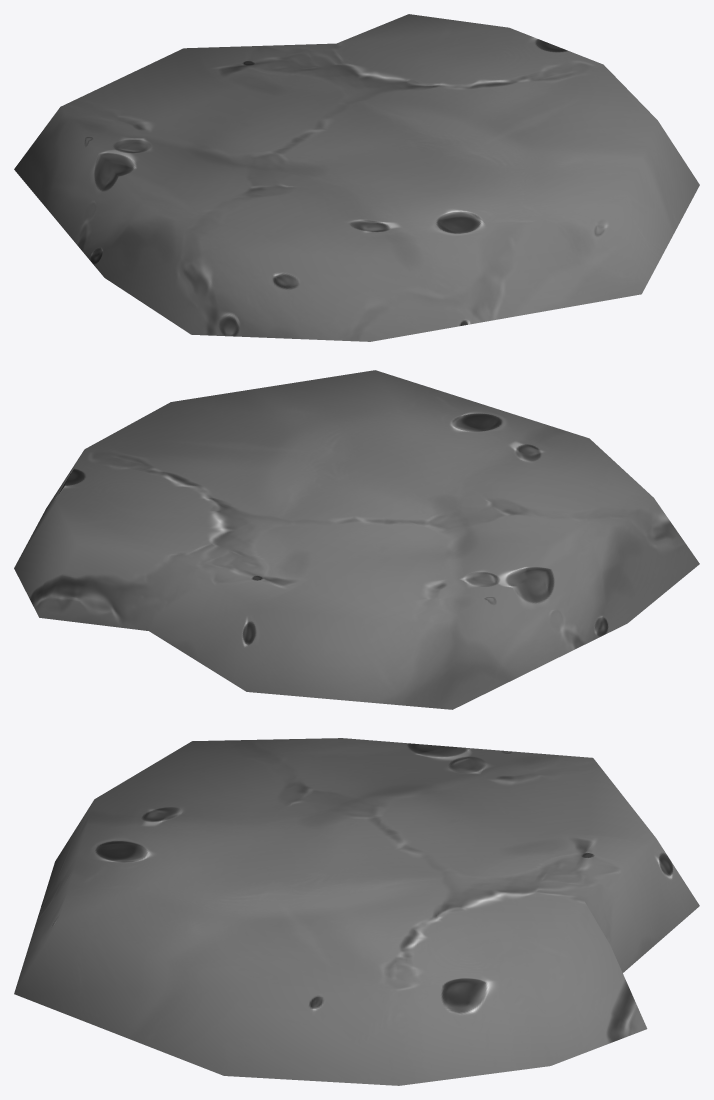
Rendered from SM_PROP_stone_04.fbx.
3 views of the same model, one above another, from view 1: azimuth 30°, elevation 25°; view 2: azimuth 150°, elevation 25°; view 3: azimuth 270°, elevation 25° (orthographic). The views are drawn at different scales.
Parts seen in each view (by area): view 1: SM_PROP_stone_04; view 2: SM_PROP_stone_04; view 3: SM_PROP_stone_04.
Part boxes in pixels (x1,y1,x2,y2): SM_PROP_stone_04: [14, 14, 699, 341]; SM_PROP_stone_04: [14, 370, 699, 709]; SM_PROP_stone_04: [14, 738, 699, 1085].
Size of the model in its own units: 182 by 21.26 by 179.
